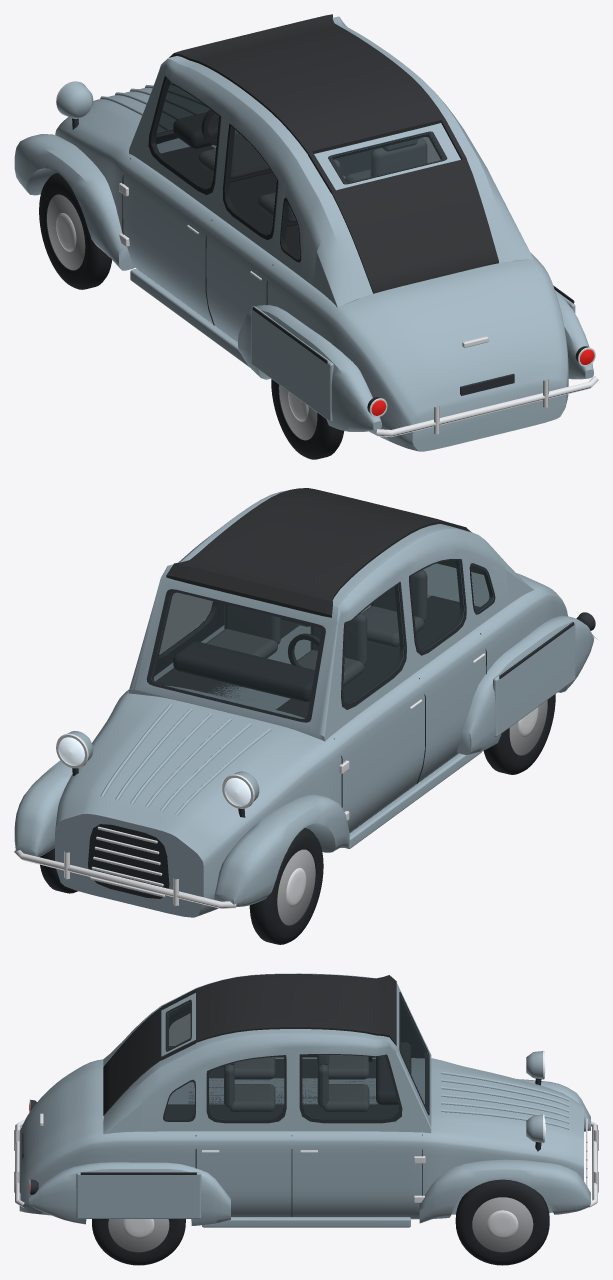
Rendered from paris-tin-snail.glb.
The picture shows the model from 3 angles, top to bottom: view 1: azimuth 30°, elevation 25°; view 2: azimuth 150°, elevation 25°; view 3: azimuth 270°, elevation 25°; orthographic projection. The views are drawn at different scales.
Parts seen in each view (by area): view 1: Body geometry, Running wheel geometry, Running wheel geometry.002; view 2: Body geometry, Running wheel geometry, Running wheel geometry.002; view 3: Body geometry, Running wheel geometry.001, Running wheel geometry.003.
Boxes of the visible parts, x1,y1,x2,y2 form: Body geometry: (14, 14, 598, 451); Running wheel geometry: (39, 173, 111, 289); Running wheel geometry.002: (271, 379, 344, 459); Body geometry: (14, 488, 597, 917); Running wheel geometry: (249, 828, 323, 944); Running wheel geometry.002: (483, 694, 555, 774); Body geometry: (14, 973, 598, 1227); Running wheel geometry.001: (455, 1179, 549, 1265); Running wheel geometry.003: (92, 1219, 185, 1265).
Bounding box in the file's own units: 1.04 × 1.14 × 2.7.
